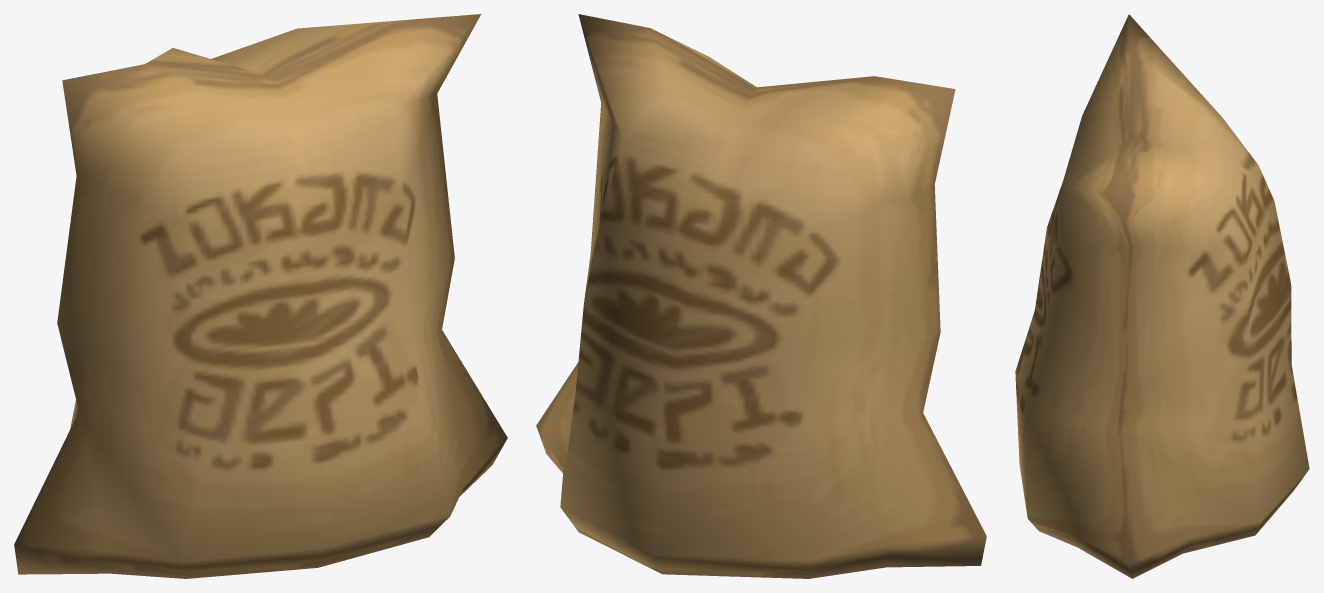
Rendered from SM_PROP_sack_city_01.fbx.
3 views of the same model, side by side, from view 1: azimuth 30°, elevation 25°; view 2: azimuth 150°, elevation 25°; view 3: azimuth 270°, elevation 25° (orthographic). The views are drawn at different scales.
Parts seen in each view (by area): view 1: SM_PROP_sack_city_01; view 2: SM_PROP_sack_city_01; view 3: SM_PROP_sack_city_01.
Part boxes in pixels (x1,y1,x2,y2): SM_PROP_sack_city_01: (14, 14, 507, 578); SM_PROP_sack_city_01: (536, 14, 986, 578); SM_PROP_sack_city_01: (1015, 14, 1309, 578).
Bounding box in the file's own units: 57.61 × 55.67 × 37.55.
